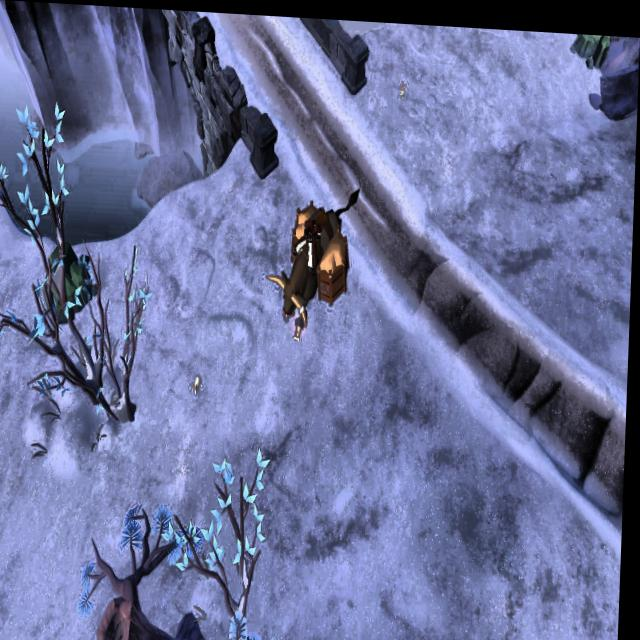rock_t3: (46, 232, 99, 319), (561, 26, 620, 63)
